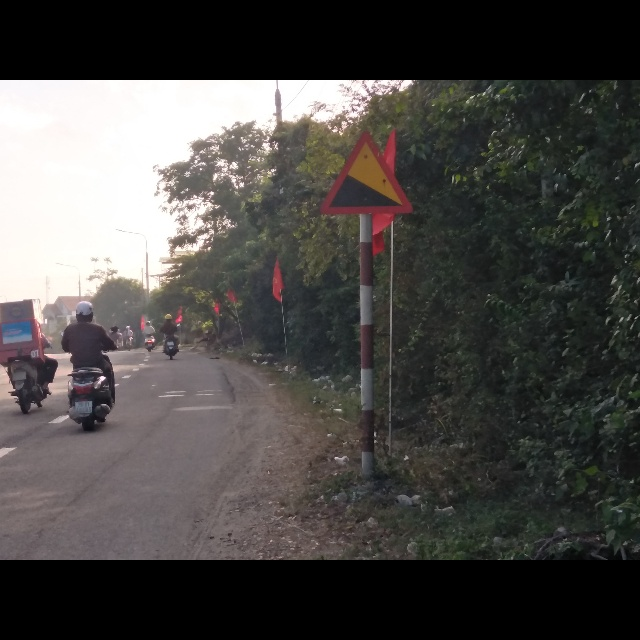Dốc lên nguy hiểm: (321, 131, 413, 218)
